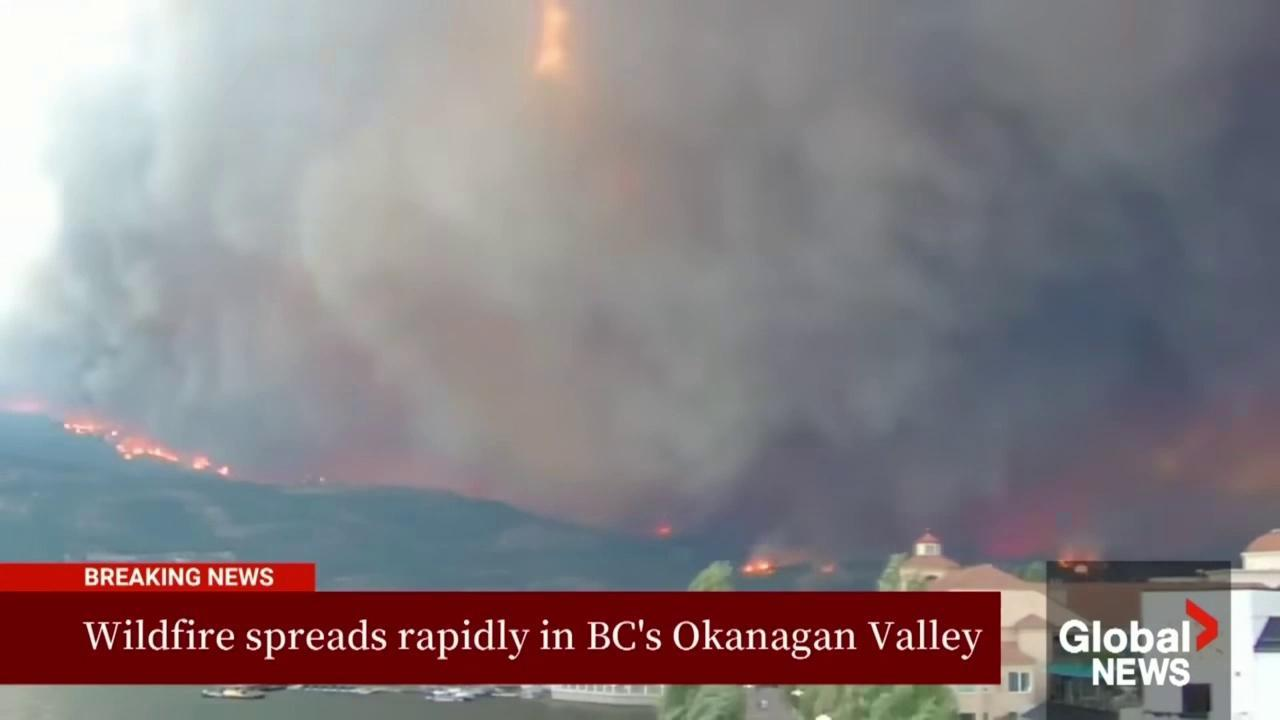fire: (57, 420, 183, 465), (1052, 549, 1104, 572), (738, 558, 776, 576), (812, 562, 842, 576), (189, 455, 211, 471), (654, 523, 673, 540), (217, 465, 231, 479)
smoke: (0, 0, 1280, 570)
